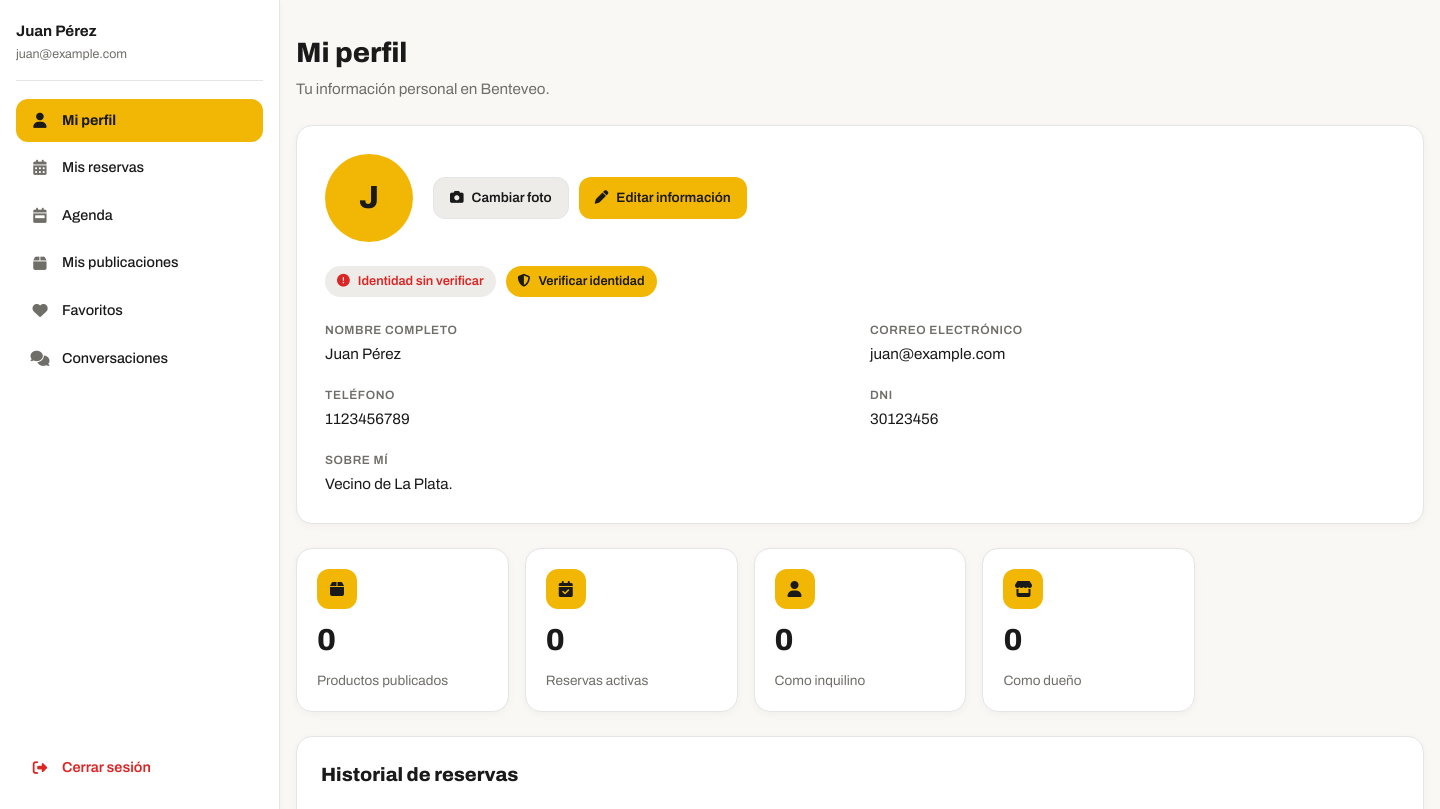
Scenario: Dashboard — edición de perfil › envía solo el nombre cambiado, refresca y cierra el formulario al guardar
Click the button "Editar información" at (663, 198), box [579,177,747,219]
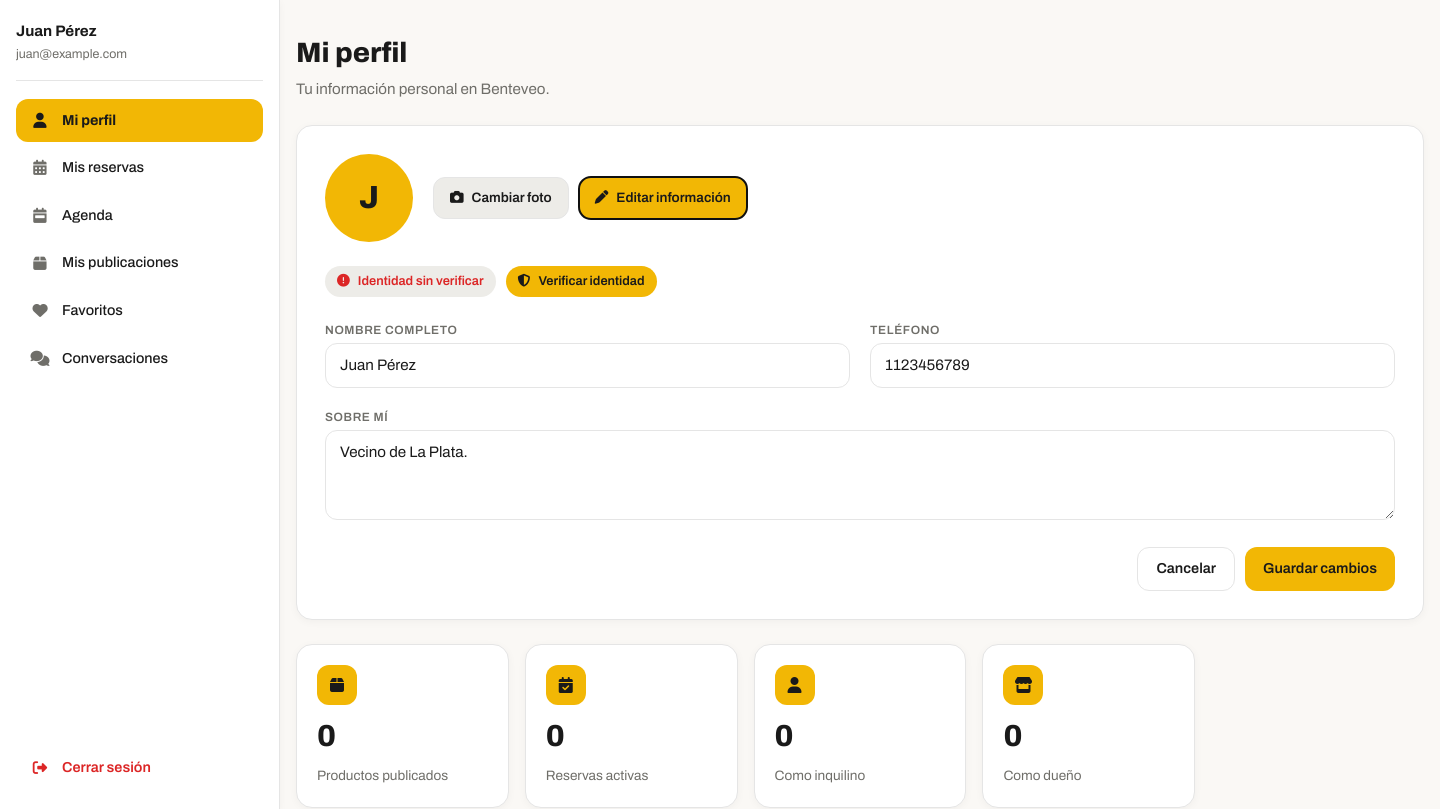
expect the field labelled "Nombre completo" is shown: met
Replace the text in the field labelled "Nombre completo" with "Juan Actualizado" at (588, 365), box [325,343,850,388]
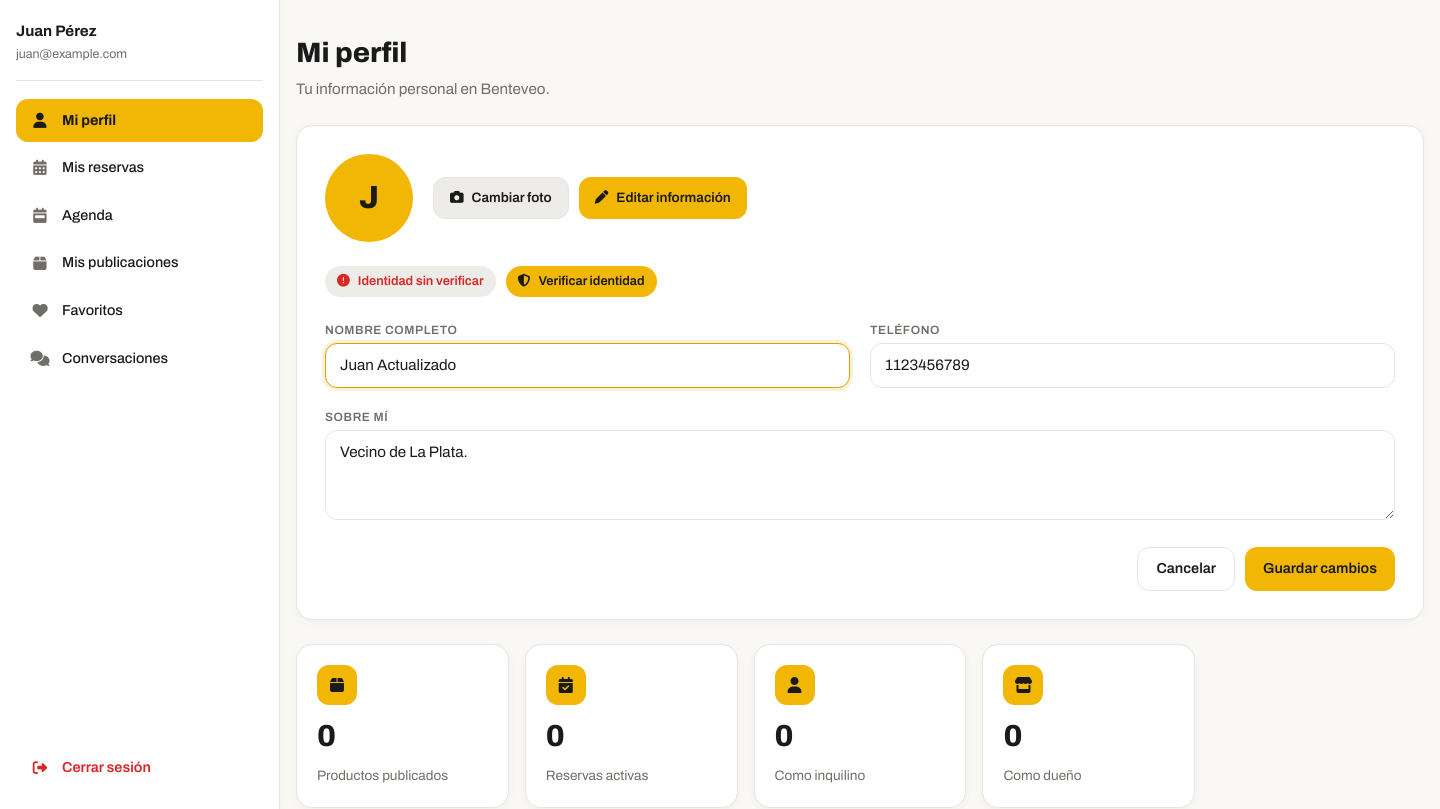
Click the button "Guardar cambios" at (1320, 569), box [1245,547,1395,591]
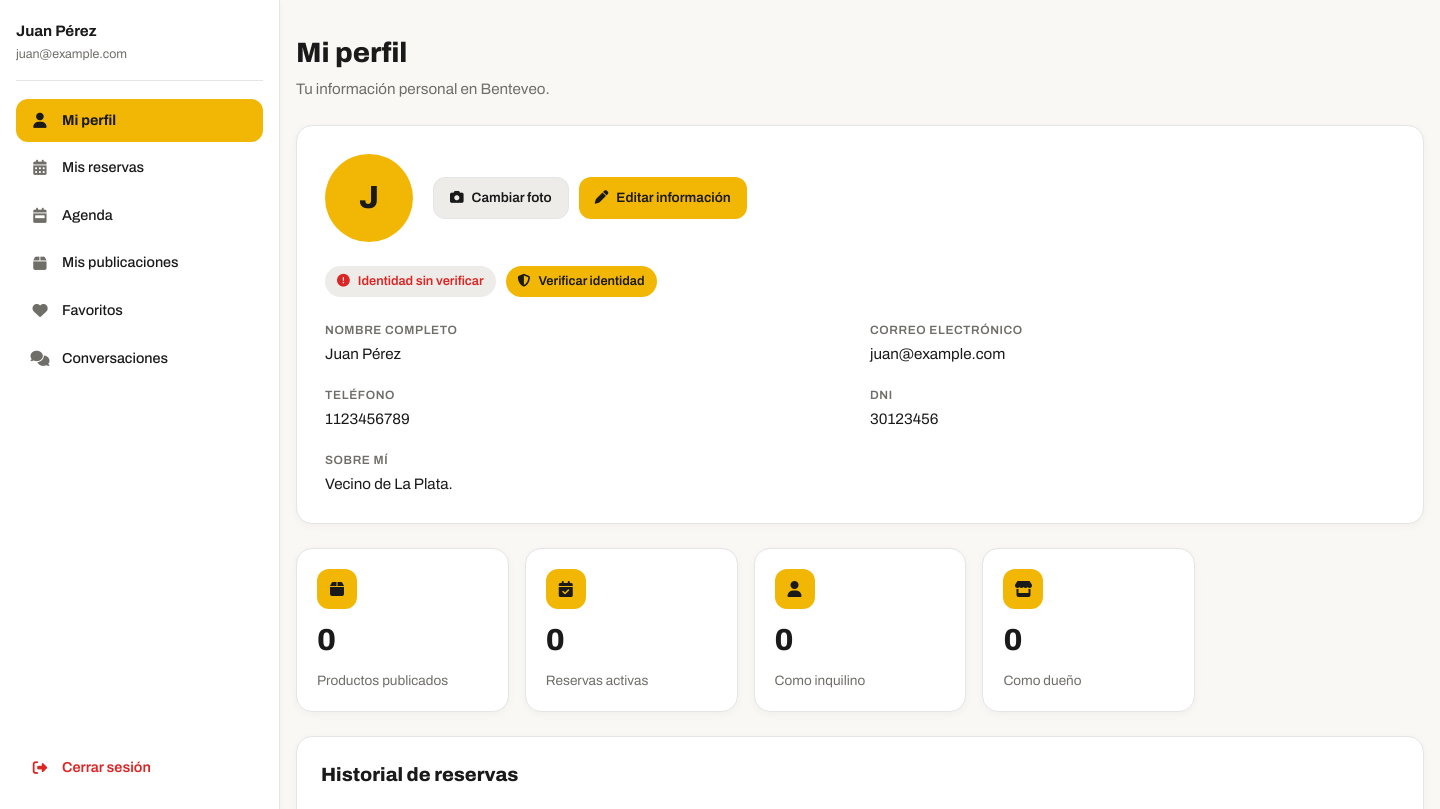
expect the button "Guardar cambios" is gone: met
